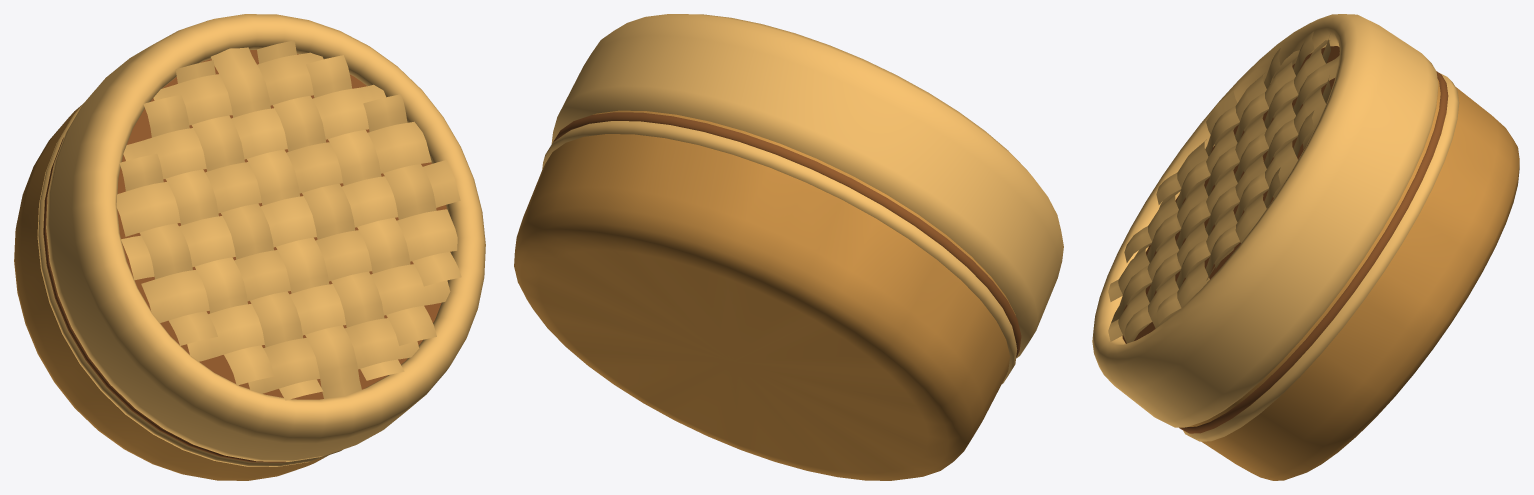
File: bamboo-steamer.glb
The picture shows the model from 3 angles, left to right: view 1: azimuth 30°, elevation 25°; view 2: azimuth 150°, elevation 25°; view 3: azimuth 270°, elevation 25°; orthographic projection. The views are drawn at different scales.
Visible parts, largest first — view 1: Bamboo steamer with woven lid; view 2: Bamboo steamer with woven lid; view 3: Bamboo steamer with woven lid.
Boxes of the visible parts, <box> form: Bamboo steamer with woven lid: <box>14,14,485,480</box>; Bamboo steamer with woven lid: <box>514,14,1063,480</box>; Bamboo steamer with woven lid: <box>1092,14,1519,480</box>.
Size of the model in its own units: 0.864 by 0.883 by 0.817.
